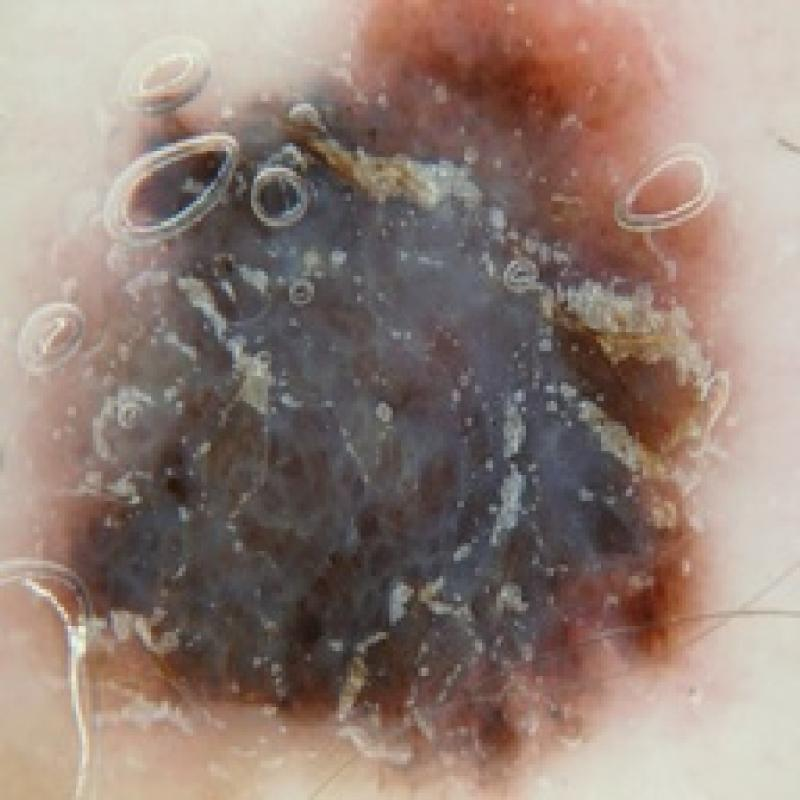malignant: (28, 44, 761, 784)
